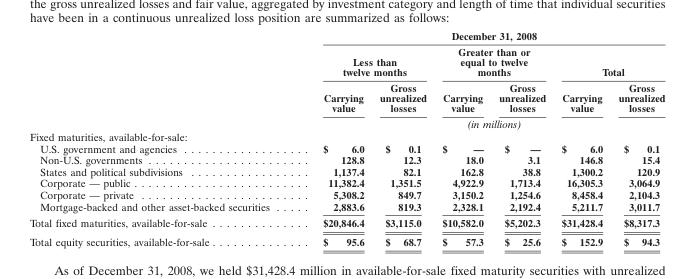table: (28, 29, 664, 247)
table column: (28, 29, 295, 247), (295, 29, 371, 247), (490, 29, 553, 247), (371, 29, 433, 247), (433, 29, 490, 247), (553, 29, 609, 247), (609, 29, 664, 247)
table column header: (28, 29, 664, 129)
table projected row header: (28, 129, 664, 142)
table row: (28, 43, 664, 79), (28, 79, 664, 115), (28, 214, 664, 232), (28, 232, 664, 247), (28, 29, 664, 43), (28, 115, 664, 129), (28, 200, 664, 214), (28, 129, 664, 142), (28, 153, 664, 165), (28, 176, 664, 188), (28, 188, 664, 200), (28, 142, 664, 153), (28, 165, 664, 176)
table spanning cell: (295, 29, 664, 43), (295, 115, 664, 129), (295, 43, 433, 79), (433, 43, 553, 79), (553, 43, 664, 79)
